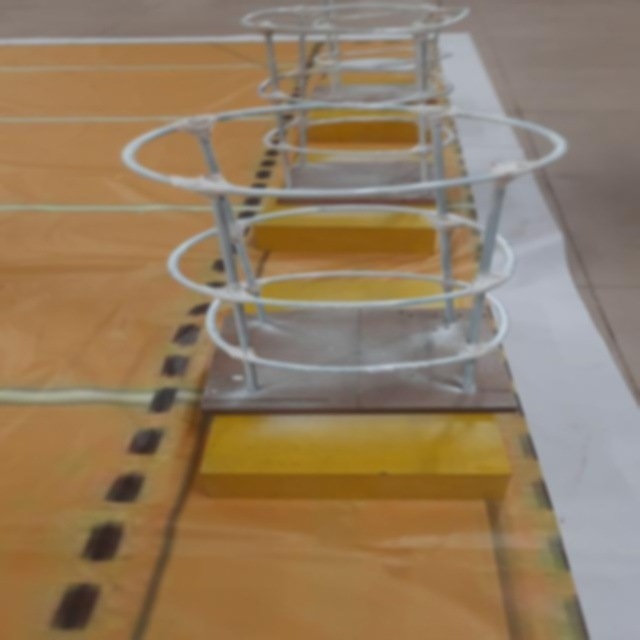silo: (118, 103, 589, 428), (225, 0, 495, 188)
